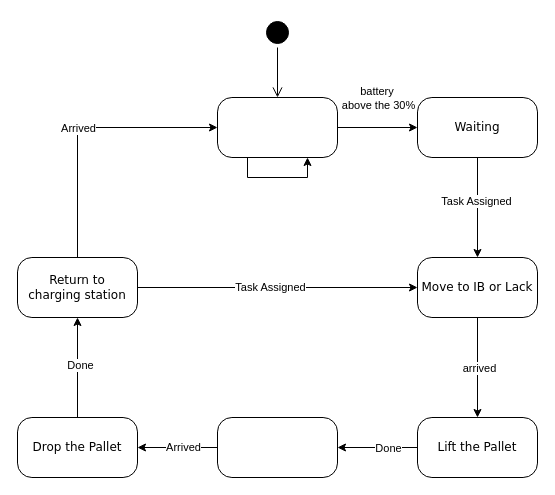
Image size: 555x495. Some labels were removed from this diagram. Here are the shapes that lost their labels. From the top down, the centre of each, then its label:
At pixel 277 127: "Charging".
At pixel 277 447: "Move to Lack or OB".
